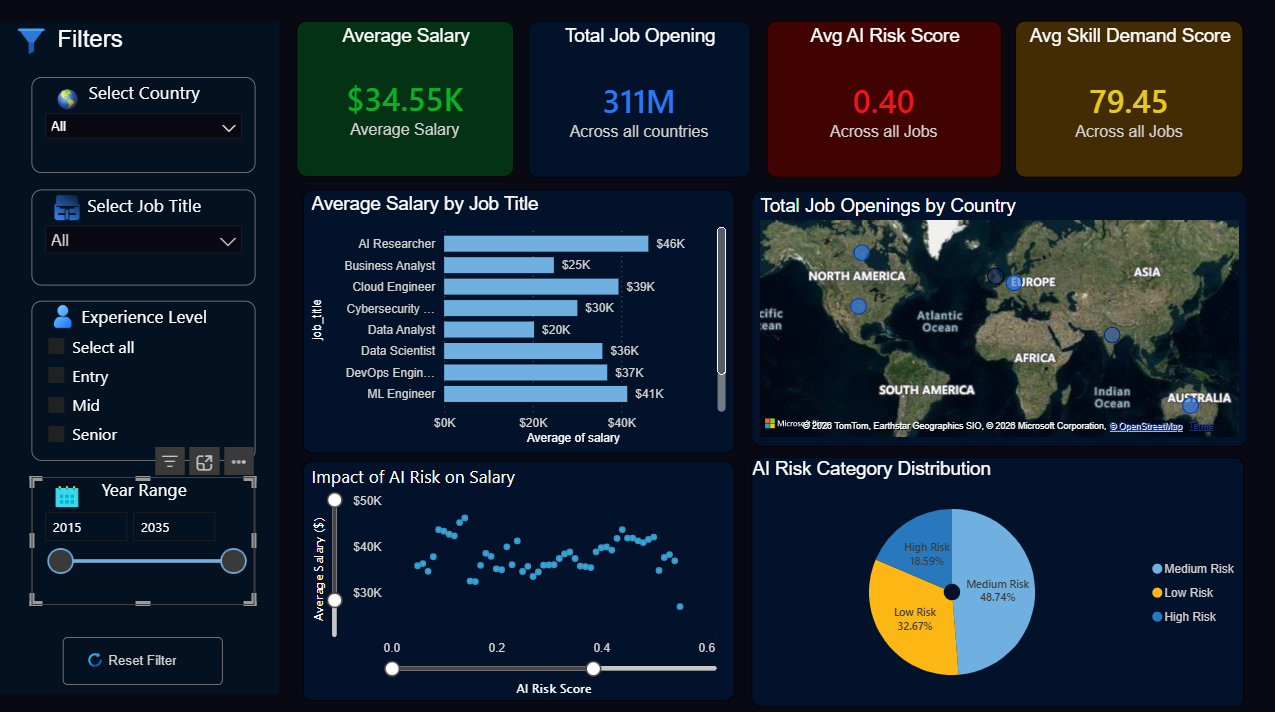

Layout of this report page (visuals, bound fields, positions):
{"tool":"powerbi","page":{"name":"Project 1","canvas":[1280,720],"ordinal":0},"visuals":[{"type":"textbox","box":[0,23.7,279.7,673.4],"z":0},{"type":"image","box":[16,27,32,32],"z":1000},{"type":"slicer","title":"Select Country","fields":{"Values":["Future of Jobs AI Dataset.country"]},"box":[32,80,224,96],"z":2000},{"type":"image","box":[55,88.8,27.5,27.5],"z":3000},{"type":"slicer","title":"Select Job Title","fields":{"Values":["Future of Jobs AI Dataset.job_title"]},"box":[32,192,224,96],"z":4000},{"type":"slicer","title":"Experience Level","fields":{"Values":["Future of Jobs AI Dataset.experience_level"]},"box":[32,304,224,160],"z":5000},{"type":"slicer","title":"Year Range","fields":{"Values":["Future of Jobs AI Dataset.year"]},"box":[32,480,224,128],"z":6000},{"type":"actionButton","box":[64,640,160,48],"z":7000},{"type":"image","box":[80,655,32,16],"z":8000},{"type":"image","box":[51.2,196.2,33.8,28.8],"z":9000},{"type":"image","box":[48.8,486.2,38.8,28.8],"z":10000},{"type":"image","box":[45,307.5,37.5,23.8],"z":11000},{"type":"cardVisual","title":"Average Salary","fields":{"Data":["Future of Jobs AI Dataset.Average Salary"]},"box":[297.5,23.8,217.5,156.2],"z":12000},{"type":"cardVisual","title":"Total Job Opening","fields":{"Data":["Future of Jobs AI Dataset.Total Job Openings"]},"box":[528.8,23.3,223.3,157.1],"z":13000},{"type":"cardVisual","title":"Avg AI Risk Score","fields":{"Data":["Future of Jobs AI Dataset.Avg AI Risk Score"]},"box":[766.9,23.3,235.6,157.1],"z":14000},{"type":"cardVisual","title":"Avg Skill Demand Score","fields":{"Data":["Future of Jobs AI Dataset.Avg Skill Demand Score"]},"box":[1016,23.3,228.2,157.1],"z":15000},{"type":"barChart","title":"Average Salary by Job Title","fields":{"Y":["Avg(Future of Jobs AI Dataset.salary)"],"Category":["Future of Jobs AI Dataset.job_title"]},"box":[304,192,432,264],"z":16000},{"type":"map","title":"Total Job Openings by Country","fields":{"Category":["Future of Jobs AI Dataset.country"],"Size":["Sum(Future of Jobs AI Dataset.job_openings)"]},"box":[752.5,193.8,496,256.2],"z":17000},{"type":"scatterChart","title":"Impact of AI Risk on Salary","fields":{"X":["Future of Jobs AI Dataset.ai_risk_score"],"Y":["Avg(Future of Jobs AI Dataset.salary)"]},"box":[304,464,432,240],"z":18000},{"type":"donutChart","title":"AI Risk Category Distribution","fields":{"Category":["Future of Jobs AI Dataset.ai_risk_category"],"Y":["CountNonNull(Future of Jobs AI Dataset.job_title)"]},"box":[752.5,460,492.5,250],"z":19000}]}

Visuals, with their boxes in screenshot pixels (x1, y1, x2, y2), scaled from the page's 1280x720 canvas onto the 1275x712 screenshot:
textbox: Rect(0, 23, 279, 689)
image: Rect(16, 27, 48, 58)
"Select Country" slicer: Rect(32, 79, 255, 174)
image: Rect(55, 88, 82, 115)
"Select Job Title" slicer: Rect(32, 190, 255, 285)
"Experience Level" slicer: Rect(32, 301, 255, 459)
"Year Range" slicer: Rect(32, 475, 255, 601)
actionButton: Rect(64, 633, 223, 680)
image: Rect(80, 648, 112, 664)
image: Rect(51, 194, 85, 222)
image: Rect(49, 481, 87, 509)
image: Rect(45, 304, 82, 328)
"Average Salary" cardVisual: Rect(296, 24, 513, 178)
"Total Job Opening" cardVisual: Rect(527, 23, 749, 178)
"Avg AI Risk Score" cardVisual: Rect(764, 23, 999, 178)
"Avg Skill Demand Score" cardVisual: Rect(1012, 23, 1239, 178)
"Average Salary by Job Title" barChart: Rect(303, 190, 733, 451)
"Total Job Openings by Country" map: Rect(750, 192, 1244, 445)
"Impact of AI Risk on Salary" scatterChart: Rect(303, 459, 733, 696)
"AI Risk Category Distribution" donutChart: Rect(750, 455, 1240, 702)
